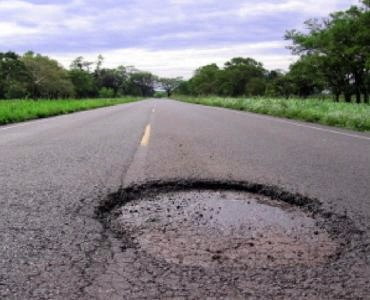pothole: (91, 175, 365, 282)
